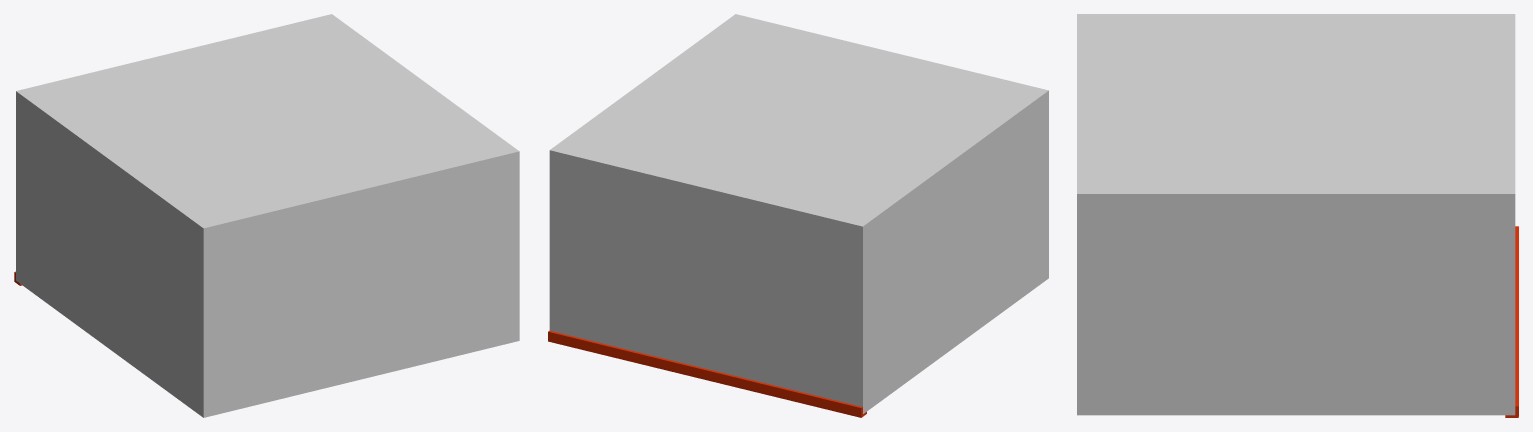
The model's file is CeilingBox.fbx.
3 renders of one model, left to right at view 1: azimuth 30°, elevation 25°; view 2: azimuth 150°, elevation 25°; view 3: azimuth 270°, elevation 25°, orthographic. The views are drawn at different scales.
Parts seen in each view (by area): view 1: Cube; view 2: Cube; view 3: Cube.
Boxes of the visible parts, x1=… form: Cube: x1=14, y1=14, x2=519, y2=417; Cube: x1=548, y1=14, x2=1048, y2=417; Cube: x1=1077, y1=14, x2=1518, y2=417.
Size of the model in its own units: 774 by 449 by 803.
